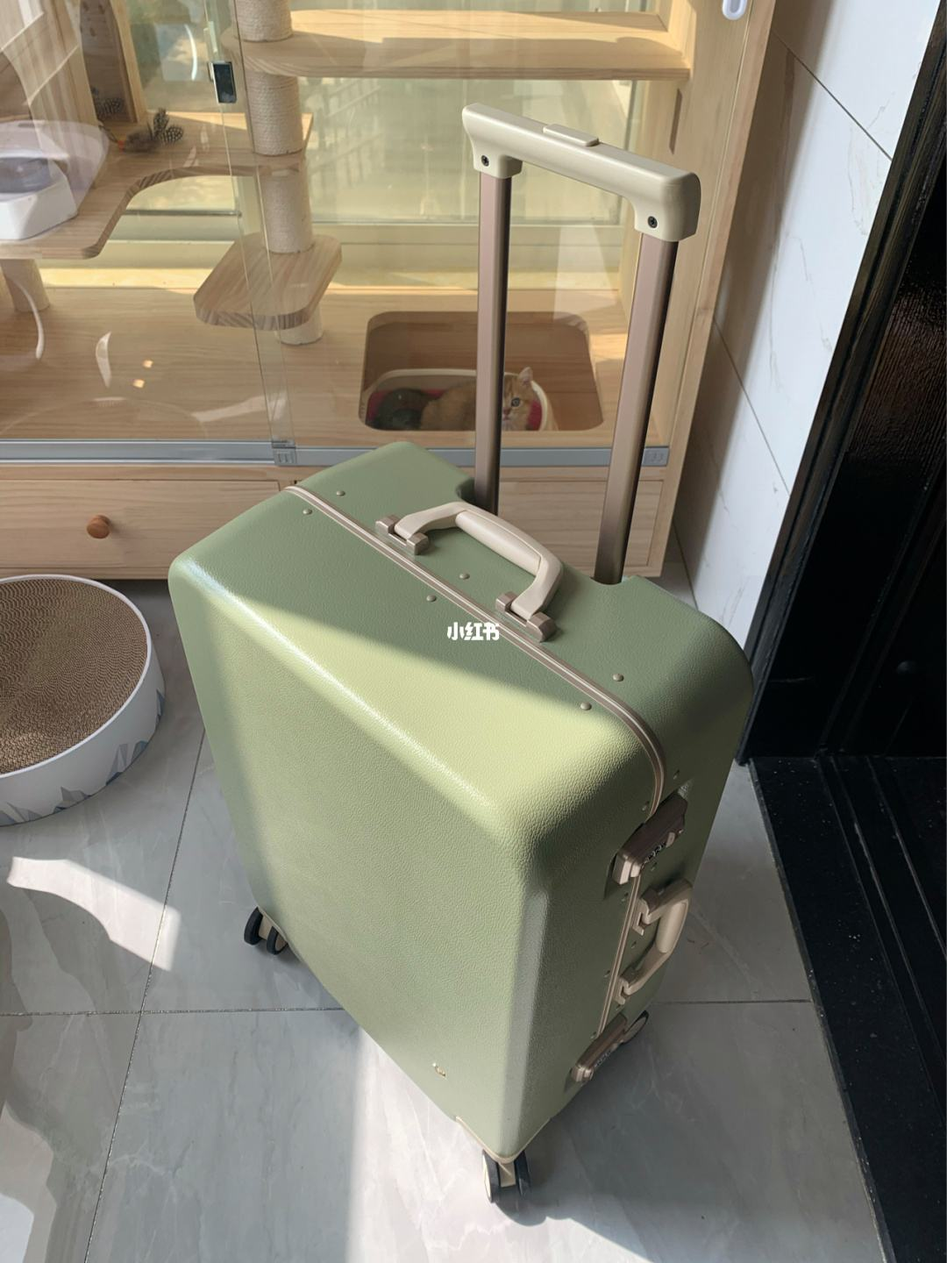box: (165, 438, 754, 1169)
handle: (371, 499, 567, 646), (613, 879, 695, 1003)
lock: (611, 795, 688, 886)
wheel: (479, 1149, 532, 1203), (243, 906, 291, 954)
